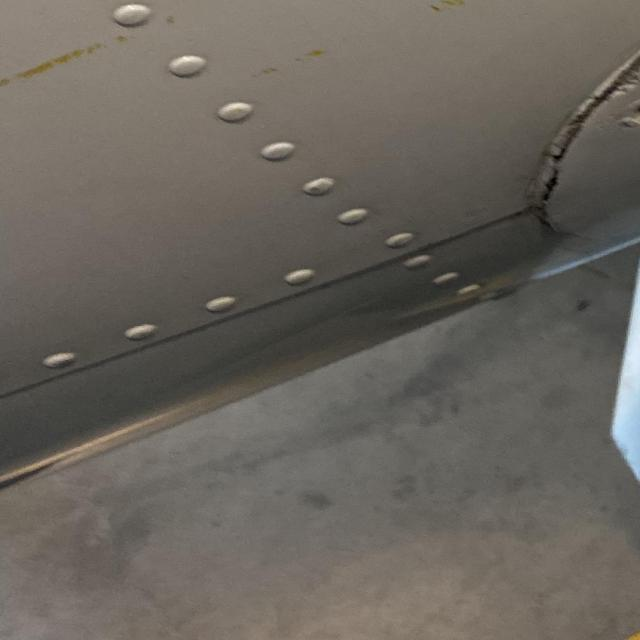Crack: (526, 36, 640, 240)
Missing-head: (617, 101, 640, 130)
